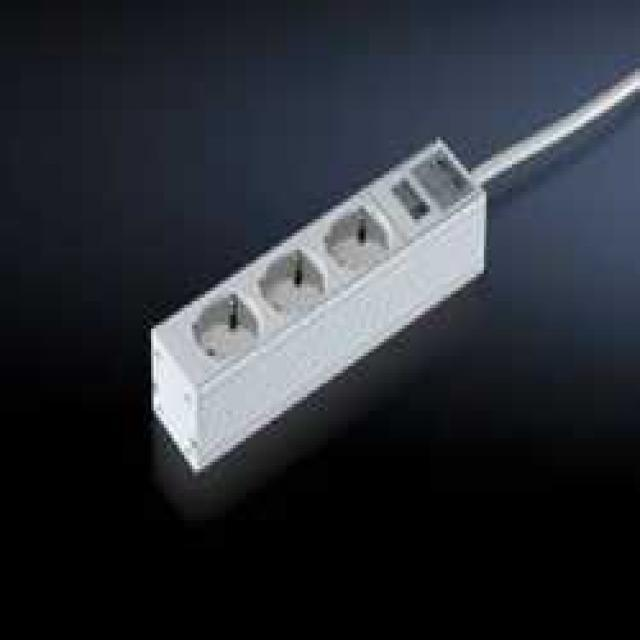typeb: (165, 184, 413, 365)
